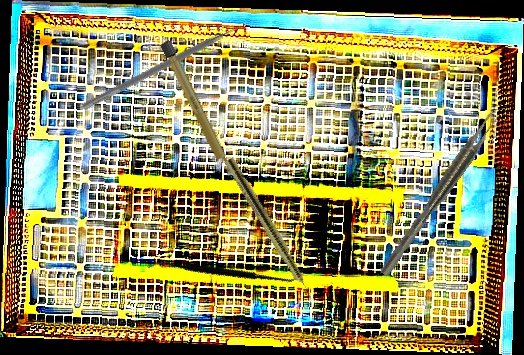Handpiece: (222, 156, 321, 309)
Scalpel Handle: (158, 38, 237, 182)
Spatula Surgical: (146, 206, 303, 336), (81, 17, 251, 119)
Tissue Forceps: (374, 109, 503, 278)
